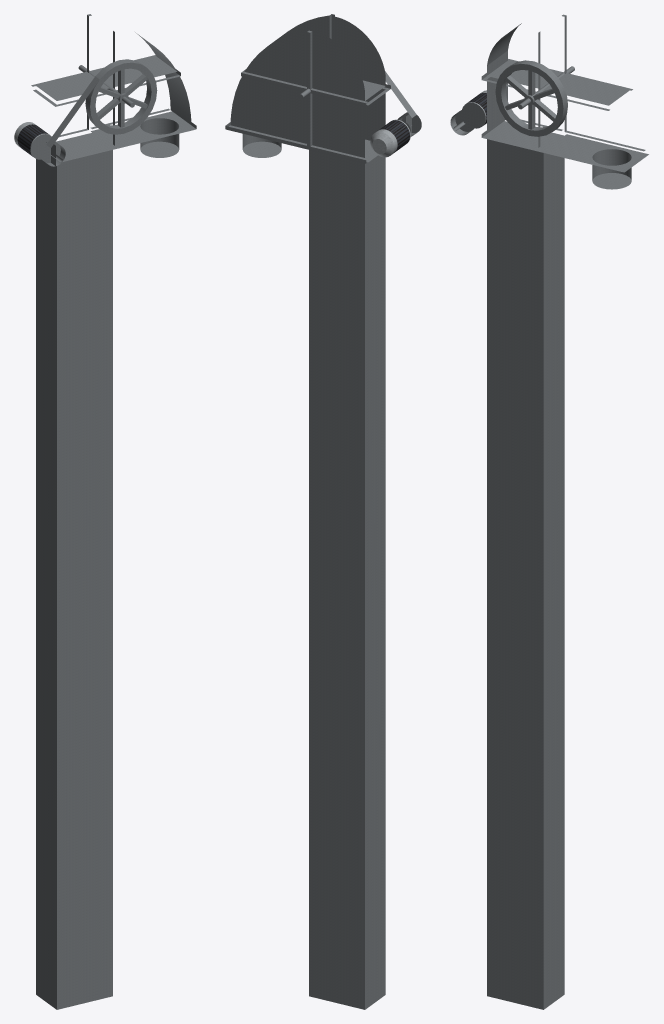
File: 输送提升.glb
3 renders of one model, left to right at view 1: azimuth 30°, elevation 25°; view 2: azimuth 150°, elevation 25°; view 3: azimuth 330°, elevation 25°, orthographic.
Bounding box in the file's own units: 1.46 × 8.23 × 0.8.
Materials: 3 (3 with a texture image).
